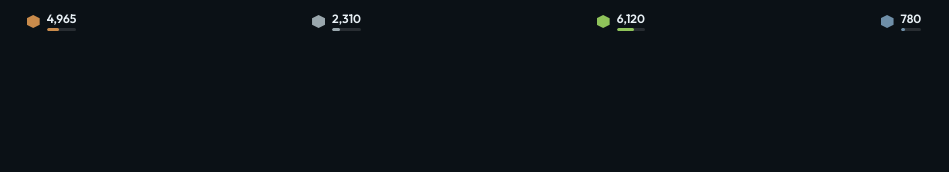
Test case: ResourceBar (compact / mobile) › the cap stage shows the same "/cap" format as the expanded view, not a "max" label
Click the button with class "resource--compact" showing "4,965" at coordinates (52, 21), box 27,12 -> 76,31
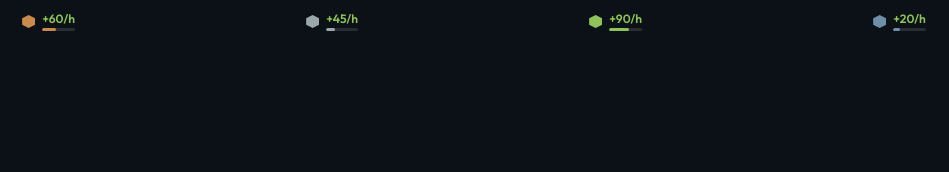
Click the button with class "resource--compact" showing "+60/h" at coordinates (49, 21), box 22,12 -> 75,31
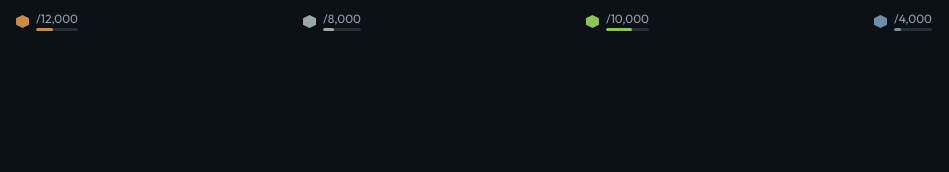
expect the text "/12,000" is shown: met, box 36,12 -> 78,26
